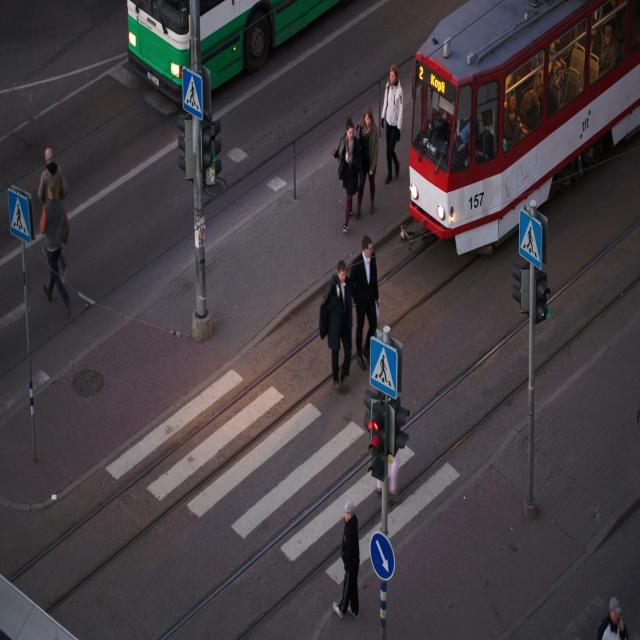pedestrian: (333, 109, 379, 232), (321, 261, 352, 389), (351, 236, 379, 367), (381, 65, 403, 183)
